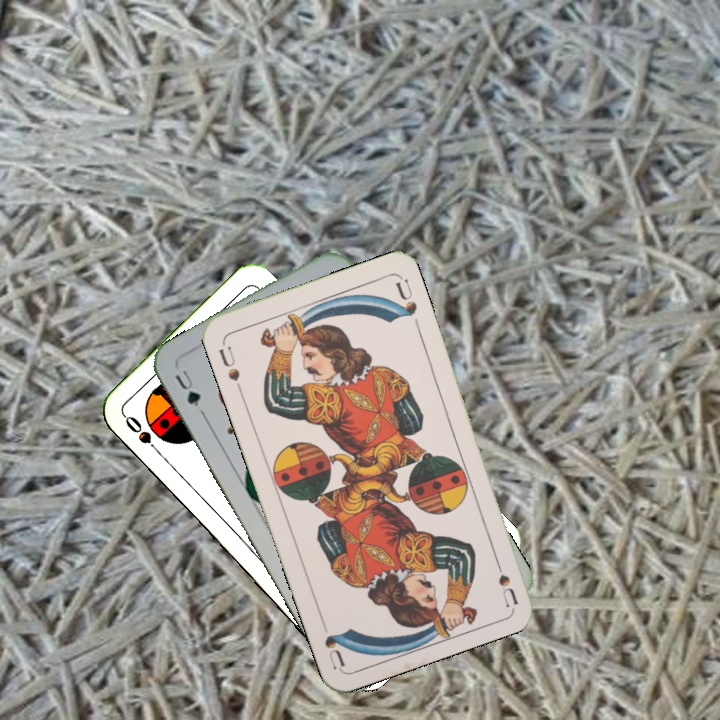GU: (170, 365, 204, 410)
SO: (120, 411, 165, 459)
SU: (489, 549, 520, 608), (214, 342, 245, 395)
